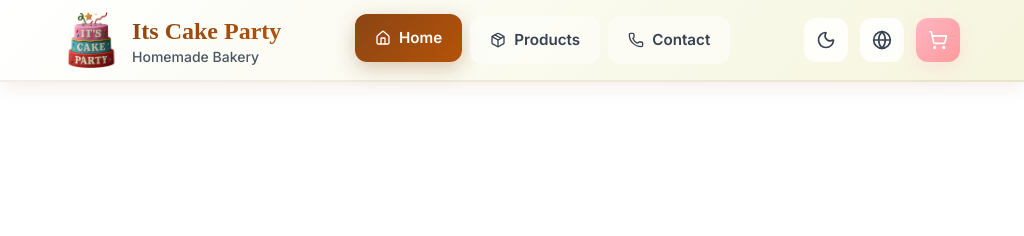
Test: Navbar Component › opens language dropdown when globe button is clicked
Click the button named "Change language" at {"x": 882, "y": 40}, box [860,18,904,62]
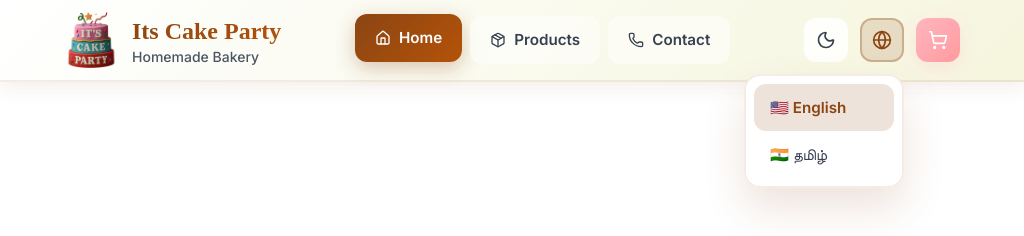
Result: the button "🇺🇸 English" is shown at [754,84,894,131]
Result: the button "🇮🇳 தமிழ்" is shown at [754,131,894,178]
